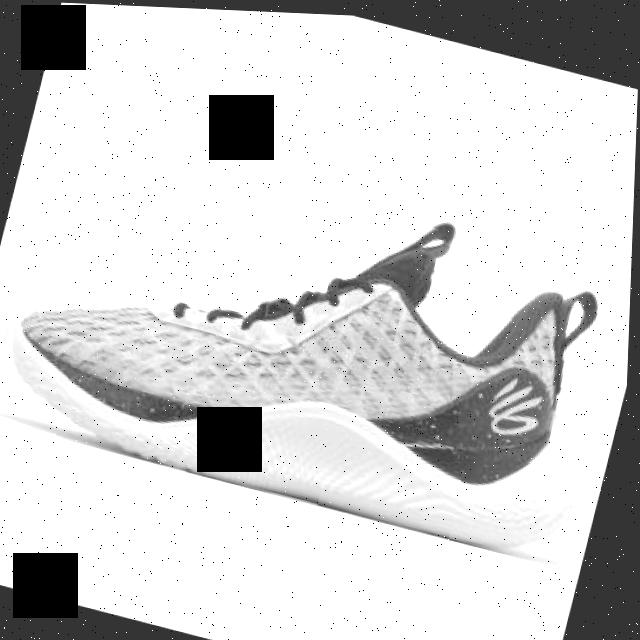shoe: (0, 123, 635, 564)
